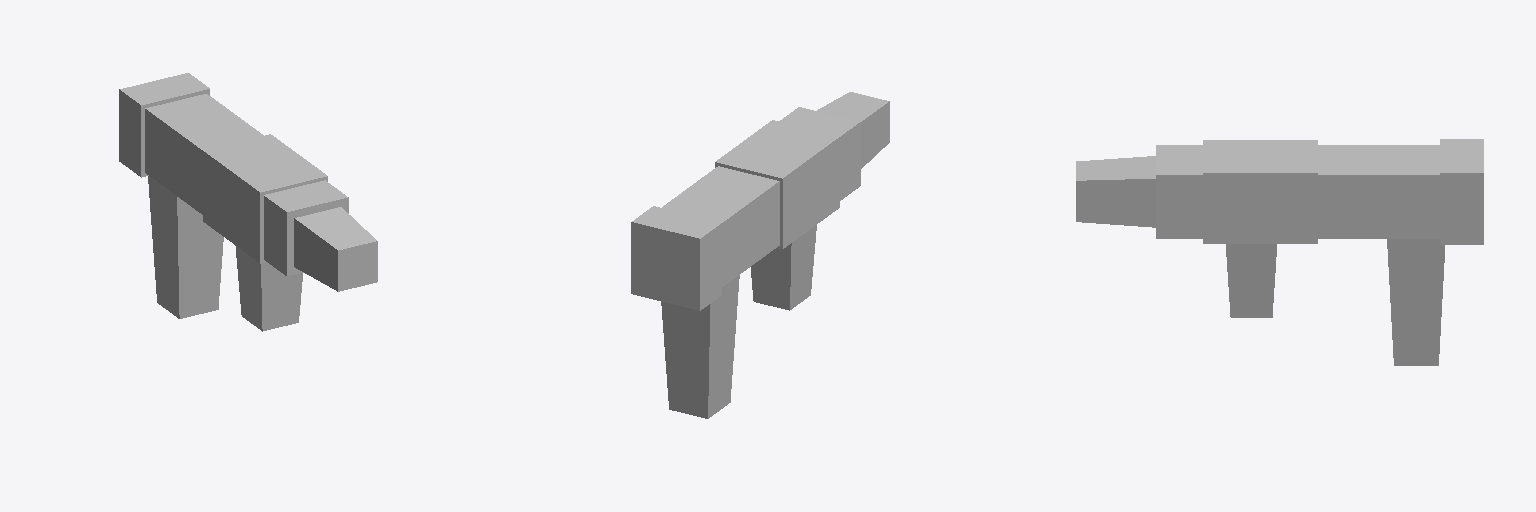
Rendered from Riffle.obj.
3 views of the same model, side by side, from view 1: azimuth 30°, elevation 25°; view 2: azimuth 150°, elevation 25°; view 3: azimuth 270°, elevation 25° (orthographic).
Parts seen in each view (by area): view 1: Riffle; view 2: Riffle; view 3: Riffle.
Boxes of the visible parts, x1,y1,x2,y2 form: Riffle: [119, 73, 377, 331]; Riffle: [631, 92, 889, 418]; Riffle: [1076, 139, 1483, 365].
Size of the model in its own units: 0.5233 by 1.45 by 2.68.